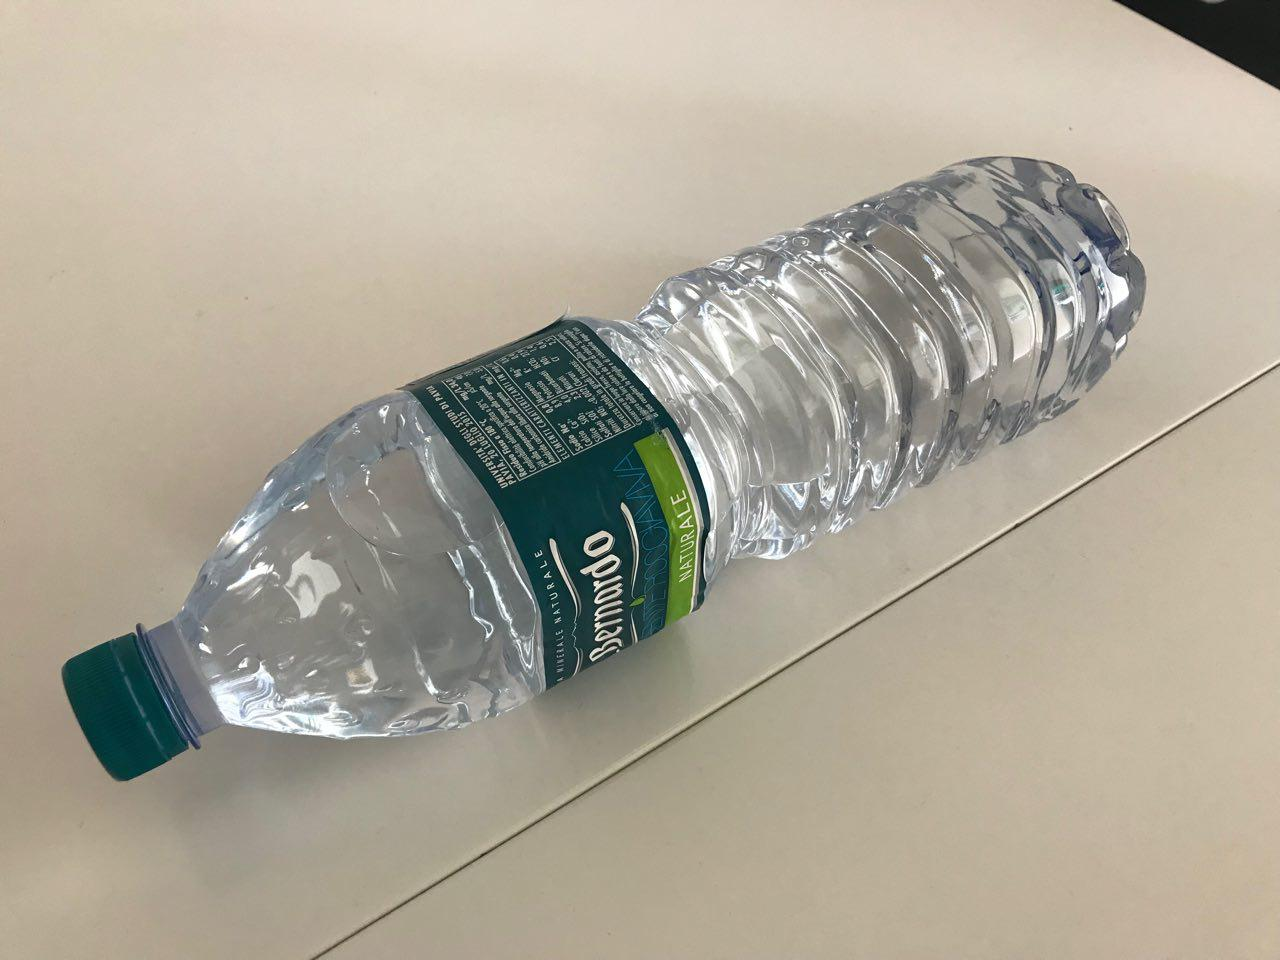san_bernardo: (61, 154, 1150, 784)
